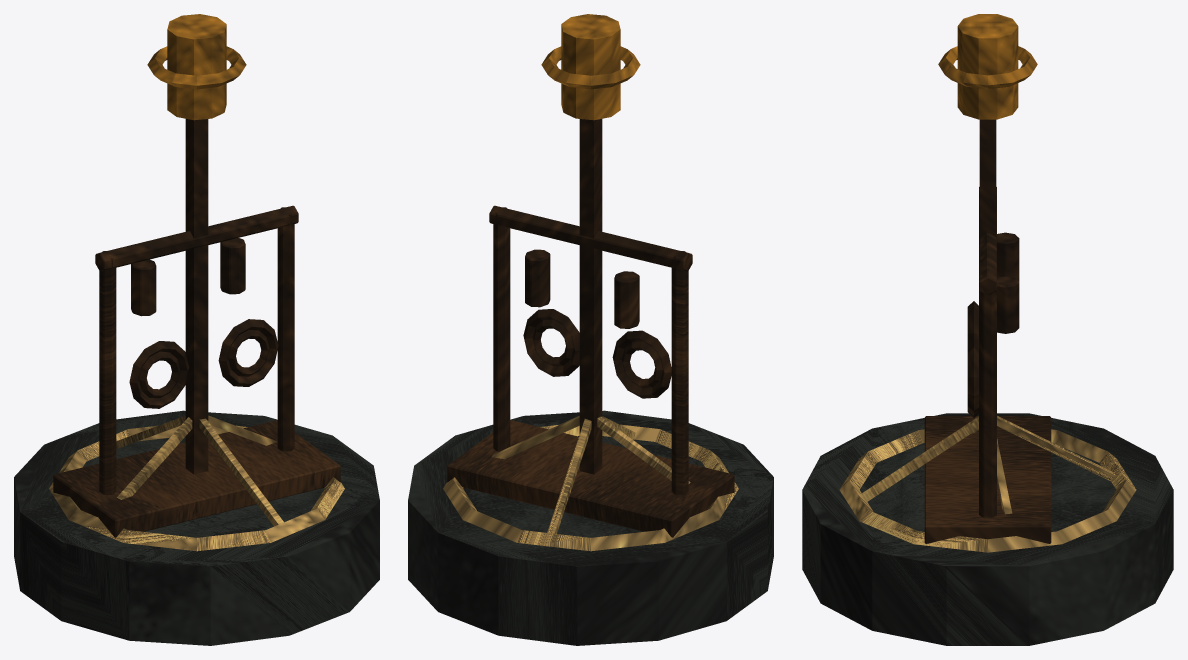
The model's file is midcourse-buoy-line-anchor.glb.
3 views of the same model, side by side, from view 1: azimuth 30°, elevation 25°; view 2: azimuth 150°, elevation 25°; view 3: azimuth 270°, elevation 25° (orthographic).
Parts seen in each view (by area): view 1: midcourse-buoy-line-anchor; view 2: midcourse-buoy-line-anchor; view 3: midcourse-buoy-line-anchor.
Boxes of the visible parts, x1=… form: midcourse-buoy-line-anchor: x1=14, y1=14, x2=379, y2=645; midcourse-buoy-line-anchor: x1=408, y1=14, x2=773, y2=645; midcourse-buoy-line-anchor: x1=802, y1=14, x2=1173, y2=645.
Size of the model in its own units: 2.14 by 3.55 by 2.2.
1 material, 1 textured.
